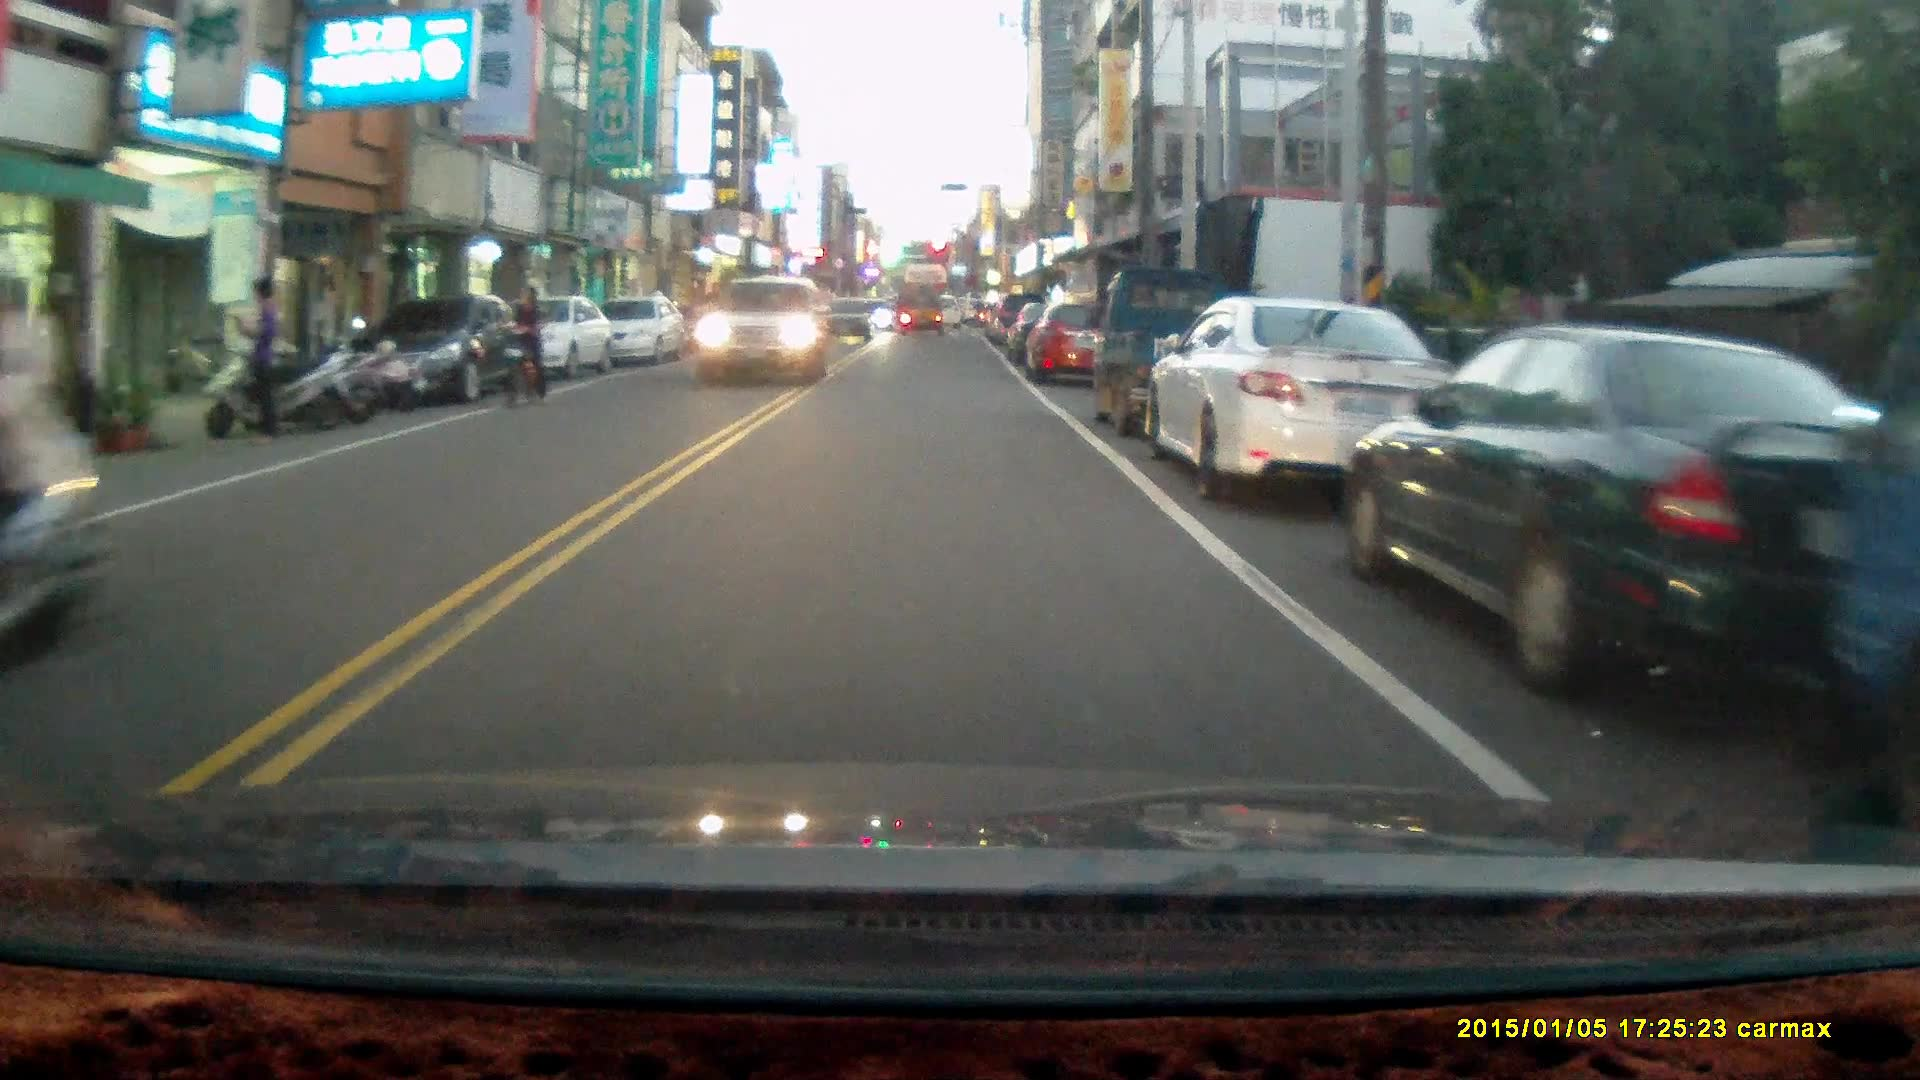pedestrian: (233, 273, 279, 449)
rider: (0, 242, 118, 685), (499, 284, 547, 412)
vehicle: (1339, 323, 1872, 709), (1139, 295, 1465, 503), (1092, 262, 1270, 447), (350, 288, 530, 403), (696, 279, 831, 384), (1025, 305, 1130, 387), (583, 297, 686, 365), (818, 297, 880, 348), (895, 283, 948, 340)
